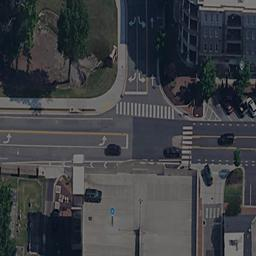Car: (220, 99, 256, 117), (81, 186, 104, 203), (200, 164, 215, 186), (102, 143, 122, 155), (161, 148, 184, 158), (218, 133, 236, 145), (52, 208, 60, 228)
Chevron: (9, 159, 180, 168)
Crosswalk: (113, 101, 180, 120), (181, 120, 190, 165), (203, 206, 224, 220)
Double Solid Yellow Line: (1, 129, 126, 136), (146, 1, 149, 92)
Left Turn Arrow: (2, 131, 12, 142), (96, 137, 108, 146), (137, 73, 146, 84), (138, 16, 145, 28)
Right Turn Arrow: (125, 15, 135, 31), (127, 72, 136, 83)
Solid White Line: (1, 145, 128, 147)
Stop Line: (125, 91, 147, 95), (125, 133, 128, 149)
Stright Arrow: (151, 72, 157, 89), (152, 16, 154, 30)
White Dashed Line: (193, 157, 256, 166), (191, 119, 256, 127)
